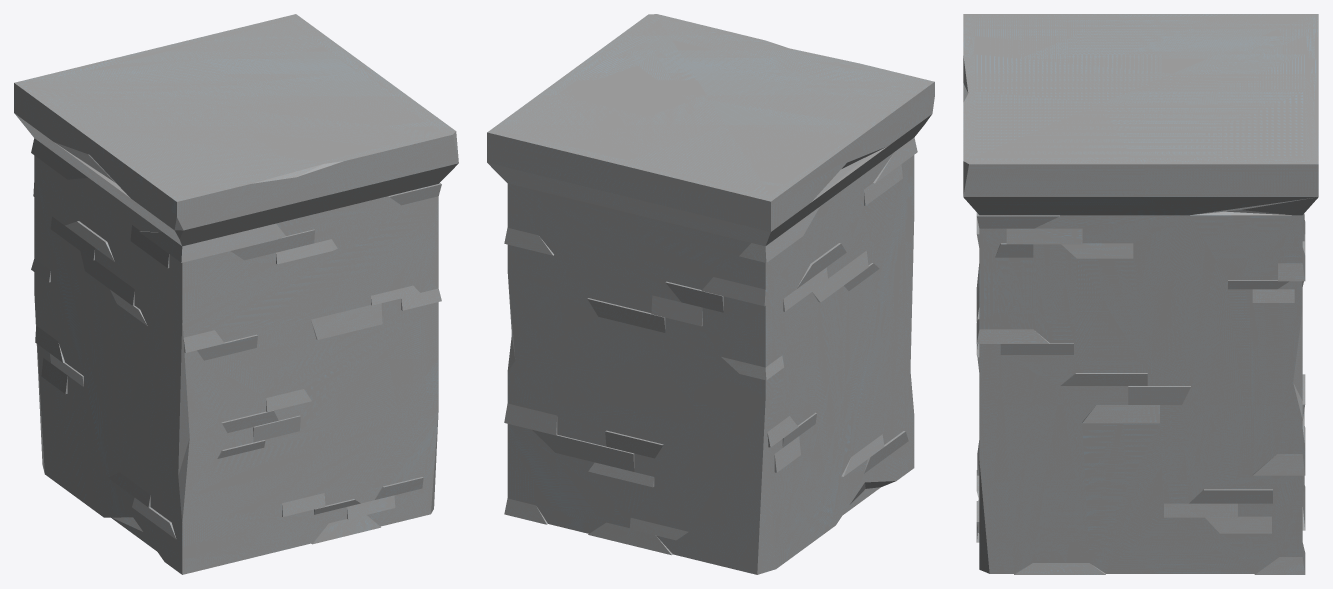
Rendered from Tower10.fbx.
The picture shows the model from 3 angles, left to right: view 1: azimuth 30°, elevation 25°; view 2: azimuth 150°, elevation 25°; view 3: azimuth 270°, elevation 25°; orthographic projection. The views are drawn at different scales.
Visible parts, largest first — view 1: Group1; view 2: Group1; view 3: Group1.
Boxes of the visible parts, x1,y1,x2,y2 form: Group1: (14, 14, 458, 574); Group1: (487, 14, 934, 574); Group1: (963, 14, 1318, 574).
Bounding box in the file's own units: 2749 × 3553 × 2749.
